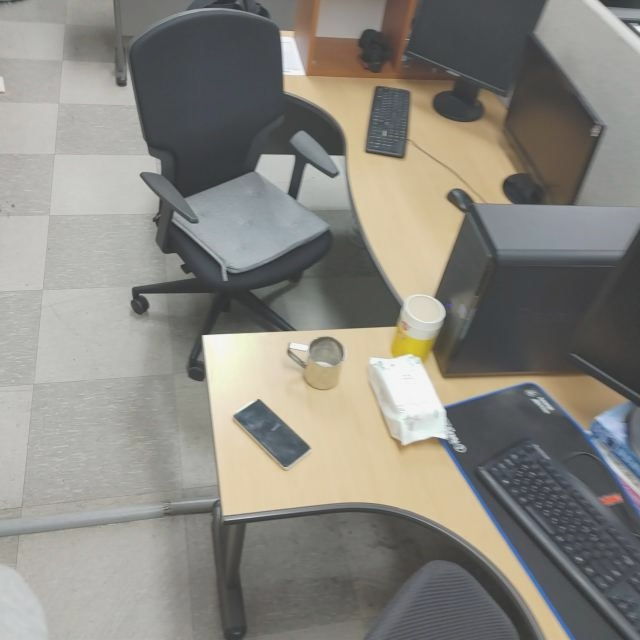cup: (285, 332, 345, 392)
phone: (233, 396, 311, 471)
